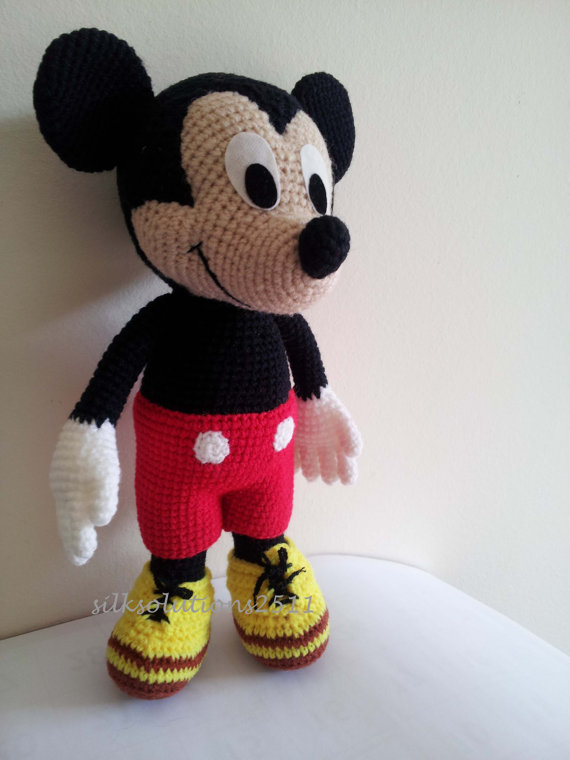Mickey: (27, 16, 358, 322)
